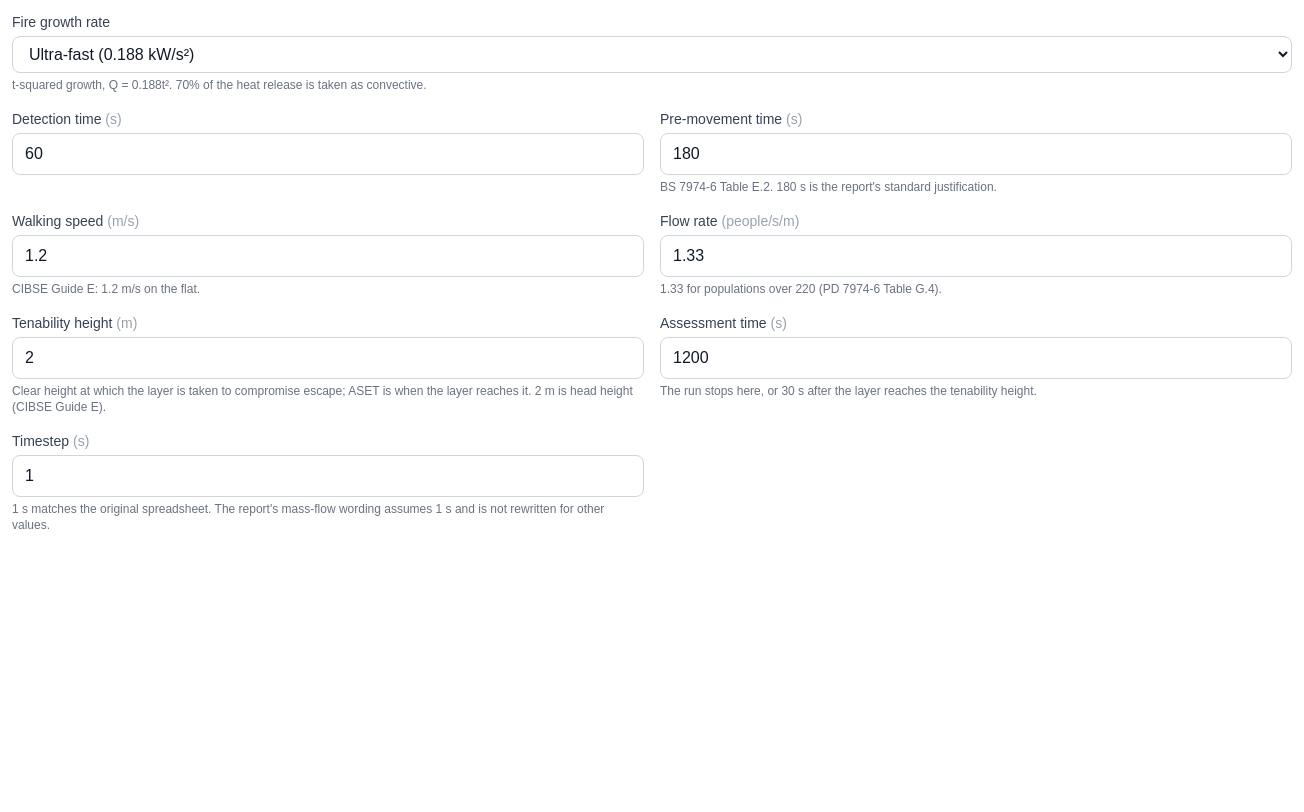
Test: SharedAssumptionsSection › reveals the coefficient field when Custom is chosen from a standard rate
Expected: the field labelled "Growth rate coefficient" is not shown
Select "Custom" in the dropdown labelled "Fire growth rate" at (652, 54), box top-left (12, 36), bottom-right (1292, 73)
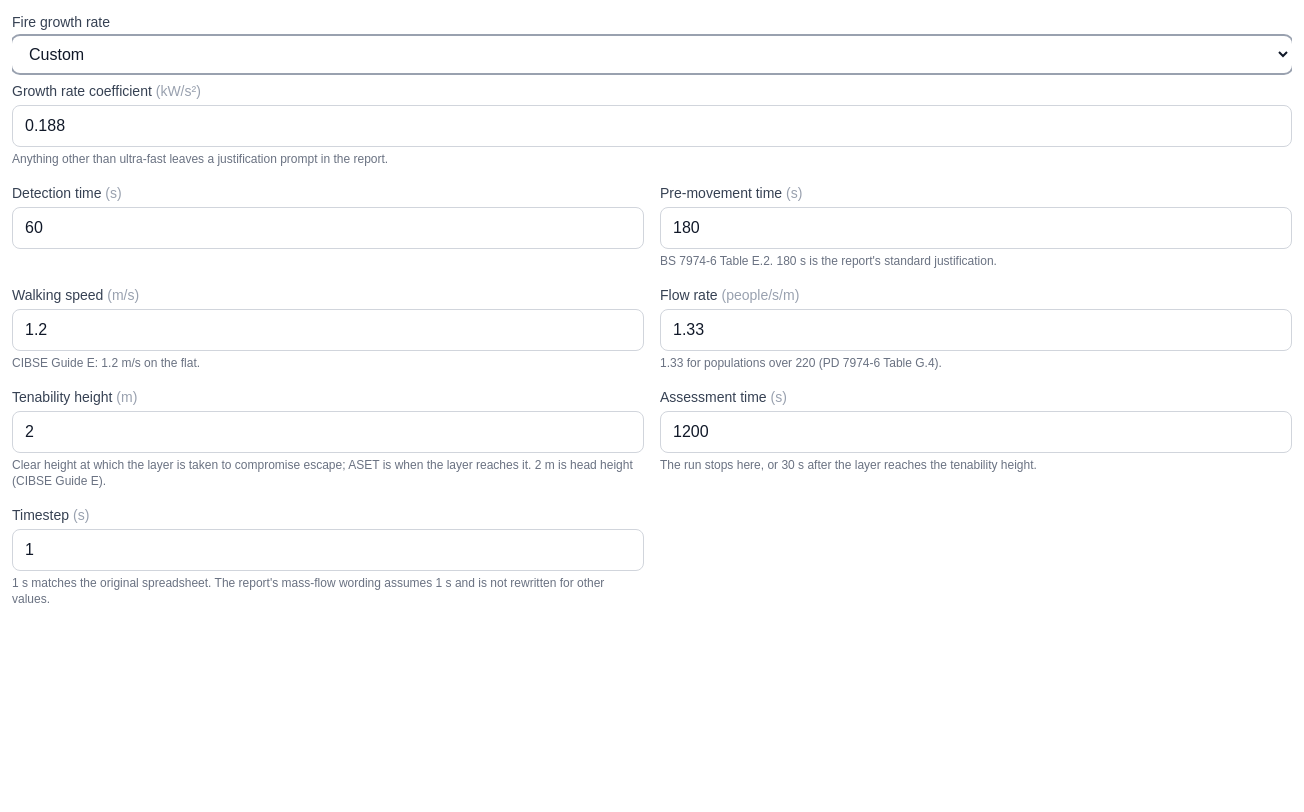
Now the number field labelled "Growth rate coefficient (kW/s²)" is shown, box top-left (12, 105), bottom-right (1292, 147)
